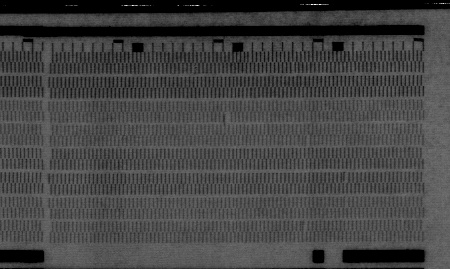Broken hole: (220, 110, 233, 125)
Oblique printing: (298, 220, 311, 233), (339, 171, 351, 185), (301, 134, 312, 148)
